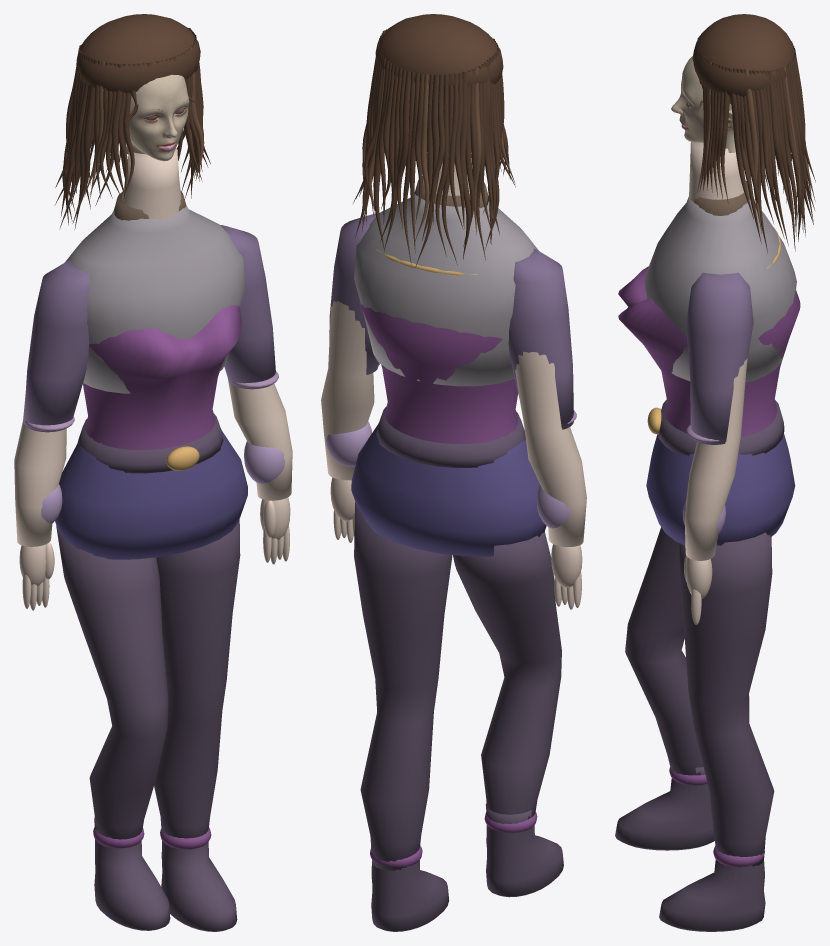
File: katie_walk_3.glb
The picture shows the model from 3 angles, left to right: view 1: azimuth 30°, elevation 25°; view 2: azimuth 150°, elevation 25°; view 3: azimuth 270°, elevation 25°; orthographic projection. The views are drawn at different scales.
Visible parts, largest first — view 1: Continuous trouser leg, Continuous trouser leg.001, Katie linen underlayer, Fitted hip panel, Violet sweetheart bodice, Katie hair locks, Katie smooth sleeve, Katie hair crown, Fitted boot, Fitted boot.001, Katie smooth sleeve.001, Continuous arm (+11 smaller); view 2: Continuous trouser leg.001, Katie linen underlayer, Katie hair locks, Continuous trouser leg, Fitted hip panel, Violet sweetheart bodice, Continuous arm, Katie smooth sleeve, Katie hair crown, Continuous arm.001, Fitted boot, Fitted boot.001 (+7 smaller); view 3: Continuous trouser leg.001, Katie linen underlayer, Katie hair locks, Continuous trouser leg, Katie smooth sleeve.001, Fitted hip panel, Violet sweetheart bodice, Katie hair crown, Fitted boot.001, Continuous arm.001, Fitted boot, Waist belt (+6 smaller).
Boxes of the visible parts, x1,y1,x2,y2 form: Continuous trouser leg: [56, 526, 168, 839]; Continuous trouser leg.001: [154, 519, 240, 838]; Katie linen underlayer: [65, 205, 245, 393]; Fitted hip panel: [55, 429, 247, 559]; Violet sweetheart bodice: [83, 305, 241, 449]; Katie hair locks: [54, 30, 210, 229]; Katie smooth sleeve: [24, 260, 89, 432]; Katie hair crown: [76, 14, 200, 93]; Fitted boot: [94, 817, 170, 930]; Fitted boot.001: [161, 840, 237, 931]; Katie smooth sleeve.001: [220, 225, 275, 389]; Continuous arm: [14, 394, 66, 546]; Continuous trouser leg.001: [354, 502, 452, 870]; Katie linen underlayer: [354, 192, 538, 386]; Katie hair locks: [353, 28, 515, 267]; Continuous trouser leg: [453, 531, 561, 819]; Fitted hip panel: [351, 423, 546, 556]; Violet sweetheart bodice: [361, 304, 518, 444]; Continuous arm: [515, 351, 586, 546]; Katie smooth sleeve: [508, 249, 573, 429]; Katie hair crown: [375, 14, 503, 88]; Continuous arm.001: [321, 301, 374, 480]; Fitted boot: [485, 803, 563, 897]; Fitted boot.001: [371, 860, 449, 931]; Continuous trouser leg.001: [679, 532, 774, 866]; Katie linen underlayer: [644, 196, 796, 382]; Katie hair locks: [696, 33, 815, 253]; Continuous trouser leg: [625, 527, 703, 775]; Katie smooth sleeve.001: [686, 272, 753, 444]; Fitted hip panel: [646, 433, 795, 545]; Violet sweetheart bodice: [618, 266, 800, 437]; Katie hair crown: [692, 14, 794, 103]; Fitted boot.001: [659, 859, 765, 931]; Continuous arm.001: [685, 357, 747, 560]; Fitted boot: [615, 767, 714, 850]; Waist belt: [658, 400, 784, 455].
Bounding box in the file's own units: 0.6866 × 2.23 × 0.4641.
15 materials, 2 textured.
